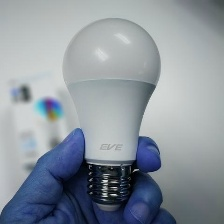light_bulb: (57, 11, 163, 215)
